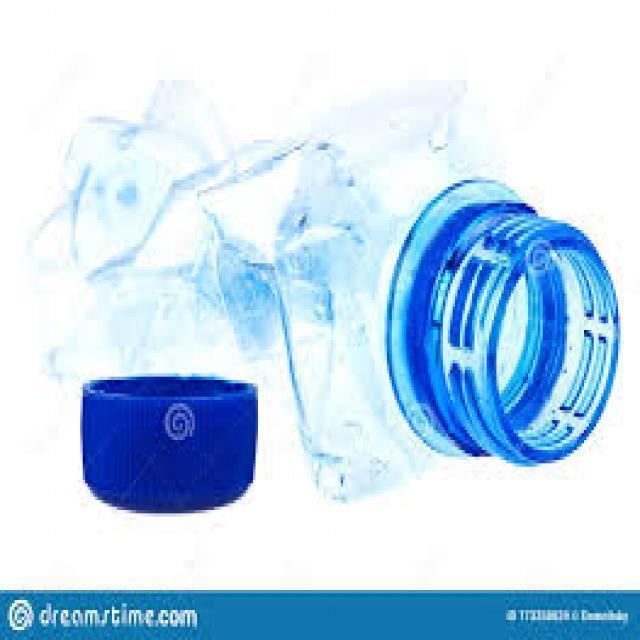Plastic: (26, 80, 616, 506), (76, 373, 258, 516)
